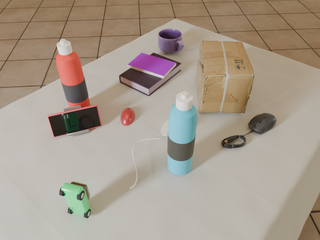book: (119, 53, 181, 96), (128, 53, 176, 78)
bottle: (167, 92, 197, 175), (56, 39, 91, 107)
box: (196, 41, 254, 113)
cup: (158, 29, 184, 53)
mouse: (248, 113, 276, 134), (121, 108, 135, 126)
phone: (47, 105, 102, 137)
toy_car: (59, 181, 91, 218)
